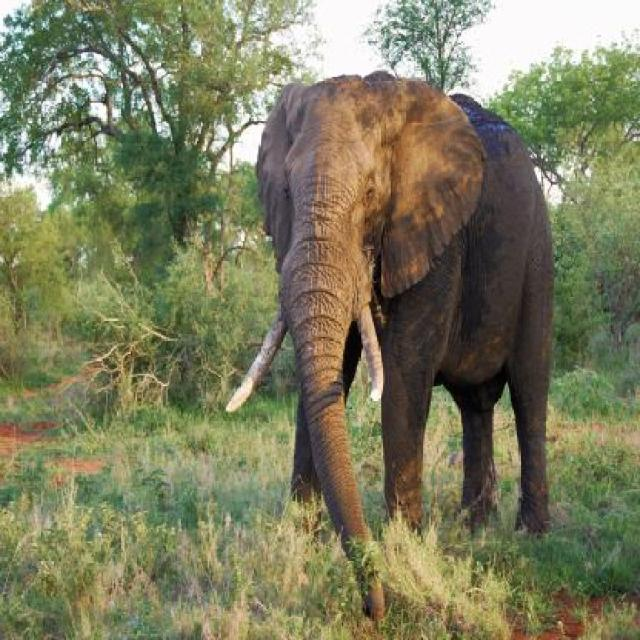Elephant: (223, 61, 560, 628)
